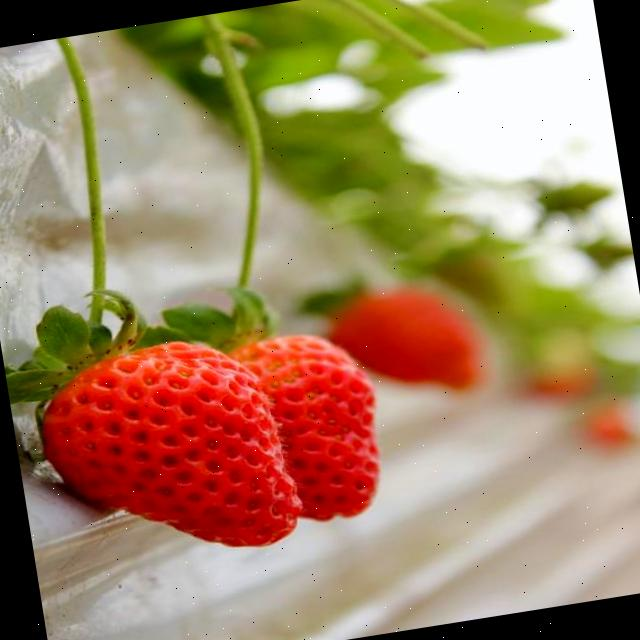strawberry: (29, 325, 308, 577), (220, 326, 390, 530), (324, 277, 481, 410)
